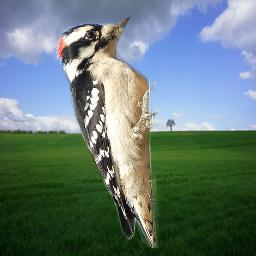Woodpecker: (56, 17, 159, 248)
